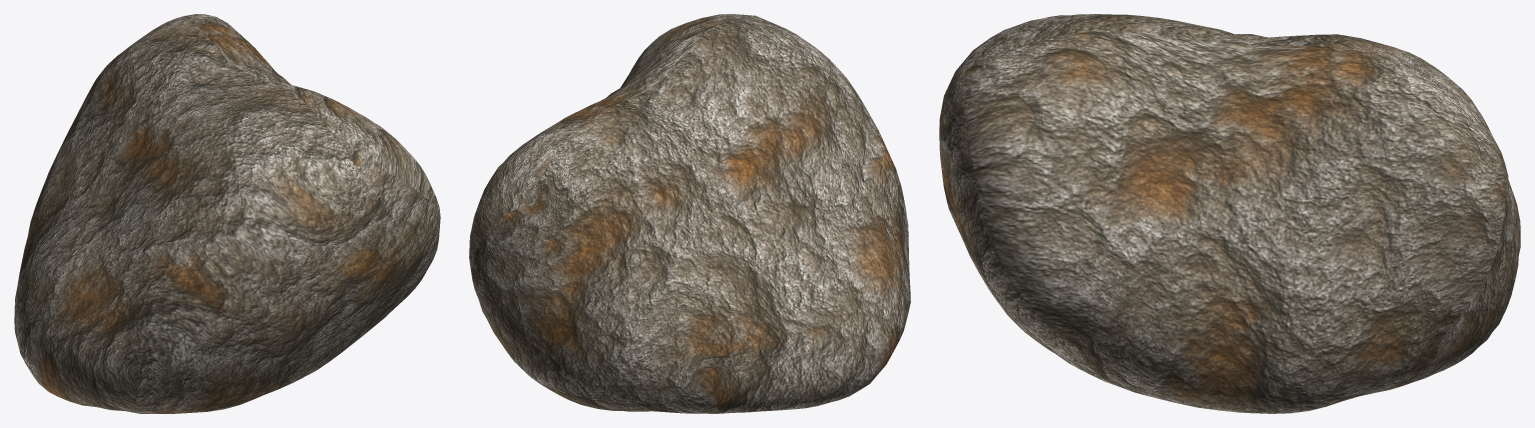
File: MetalOreNode.fbx
3 views of the same model, side by side, from view 1: azimuth 30°, elevation 25°; view 2: azimuth 150°, elevation 25°; view 3: azimuth 270°, elevation 25° (orthographic). The views are drawn at different scales.
Visible parts, largest first — view 1: rock.001; view 2: rock.001; view 3: rock.001.
Boxes of the visible parts, left/top/right/bottom form: rock.001: left=14, top=14, right=440, bottom=413; rock.001: left=469, top=14, right=910, bottom=413; rock.001: left=939, top=14, right=1520, bottom=413.
Size of the model in its own units: 80.96 by 65.91 by 96.43.
